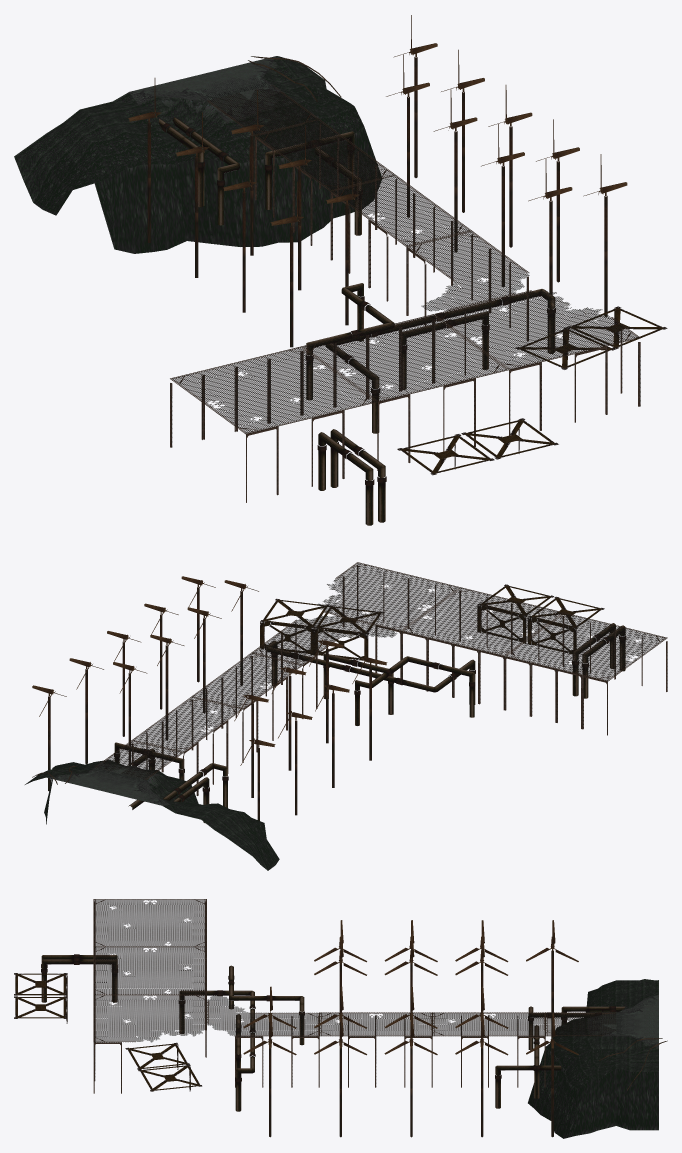
Rendered from SPU0100.glb.
3 renders of one model, top to bottom at view 1: azimuth 30°, elevation 25°; view 2: azimuth 150°, elevation 25°; view 3: azimuth 270°, elevation 25°, orthographic. The views are drawn at different scales.
Visible parts, largest first — view 1: SPU22_4__m0, SPU22_1_m0, SPUG02_B_m0, SPUG02_B#1_m0, SPU22_13_m0, SPU22_2__m0, SPU22_12_m0, SPU22_5#1_m0, SPU22_5_m0, SPU22_3__m0, IRON2_BA#1_m0, IRON2_BA_m0 (+2 smaller); view 2: SPUG02_B_m0, SPUG02_B#1_m0, SPU22_13_m0, SPU22_12_m0, SPU22_5#1_m0, SPU22_3__m0, SPU22_5_m0, SPU22_1_m0, SPU22_4__m0, IRON1_BA#2_m0, SPU22_2__m0, IRON1_BA_m0 (+7 smaller); view 3: SPU22_2__m0, SPUG02_B_m0, SPUG02_B#1_m0, SPU22_13_m0, SPU22_4__m0, SPU22_12_m0, SPU22_3__m0, SPU22_5#1_m0, SPU22_5_m0, SPU22_1_m0, IRON2_BA#1_m0, IRON2_BA#2_m0 (+2 smaller).
Part boxes in pixels (box(x1,y1,x2,y2)): SPU22_4__m0: box(129, 60, 333, 246); SPU22_1_m0: box(14, 92, 186, 253); SPUG02_B_m0: box(170, 346, 377, 434); SPUG02_B#1_m0: box(301, 314, 508, 401); SPU22_13_m0: box(433, 290, 640, 369); SPU22_2__m0: box(261, 56, 382, 218); SPU22_12_m0: box(406, 230, 529, 311); SPU22_5#1_m0: box(254, 119, 395, 190); SPU22_5_m0: box(330, 175, 471, 246); SPU22_3__m0: box(178, 64, 319, 135); IRON2_BA#1_m0: box(397, 434, 494, 475); IRON2_BA_m0: box(461, 418, 558, 459); SPUG02_B_m0: box(504, 612, 667, 681); SPUG02_B#1_m0: box(401, 587, 563, 656); SPU22_13_m0: box(318, 562, 460, 630); SPU22_12_m0: box(251, 615, 396, 665); SPU22_5#1_m0: box(132, 696, 242, 752); SPU22_3__m0: box(72, 740, 183, 796); SPU22_5_m0: box(192, 653, 302, 708); SPU22_1_m0: box(163, 802, 279, 870); SPU22_4__m0: box(59, 760, 198, 805); IRON1_BA#2_m0: box(314, 628, 368, 660); SPU22_2__m0: box(25, 762, 91, 824); IRON1_BA_m0: box(477, 605, 526, 643); SPU22_2__m0: box(554, 1042, 658, 1138); SPUG02_B_m0: box(93, 899, 206, 946); SPUG02_B#1_m0: box(93, 947, 206, 994); SPU22_13_m0: box(93, 994, 206, 1042); SPU22_4__m0: box(528, 994, 658, 1120); SPU22_12_m0: box(206, 994, 319, 1036); SPU22_3__m0: box(545, 1012, 658, 1036); SPU22_5#1_m0: box(432, 1012, 545, 1036); SPU22_5_m0: box(319, 1012, 432, 1036); SPU22_1_m0: box(586, 979, 658, 1012); IRON2_BA#1_m0: box(14, 973, 67, 995); IRON2_BA#2_m0: box(125, 1042, 189, 1069).
Size of the model in its own units: 30.39 by 11.65 by 46.31.
11 materials, 10 textured.
